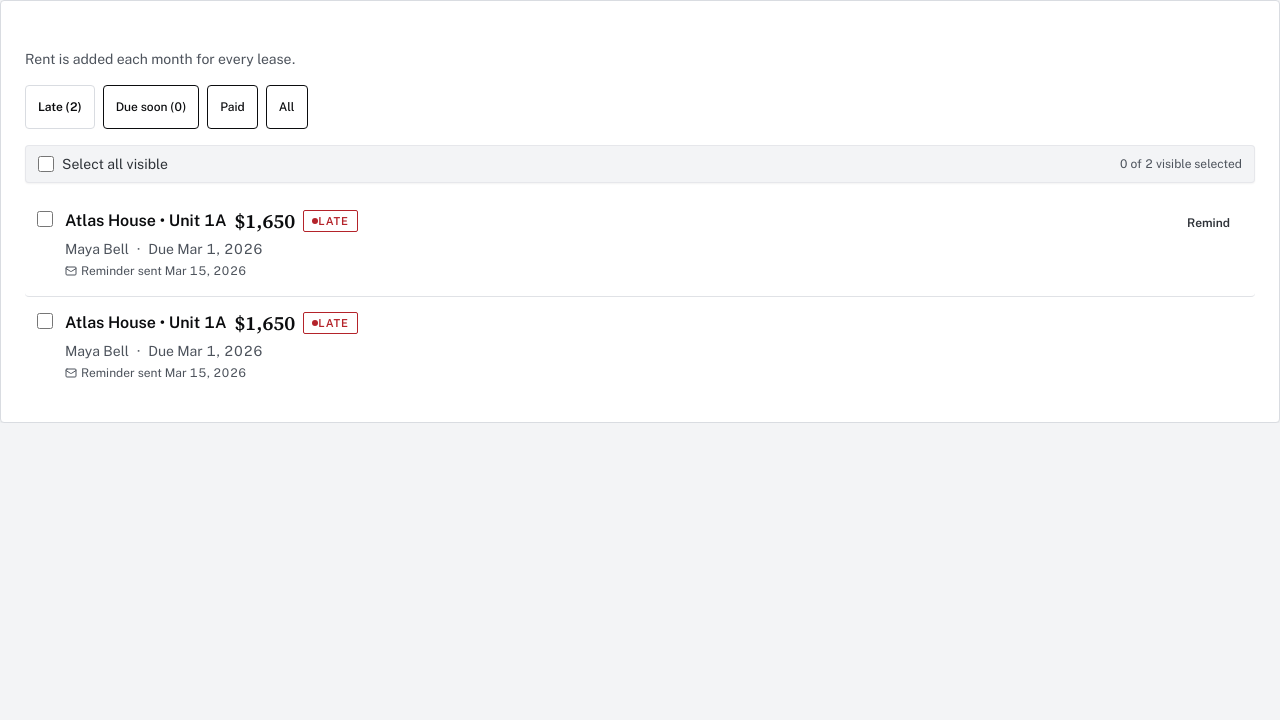
Test: ChargesSection › allows manager reminders only for approved homes and disables mixed batches
The width and height of the screenshot is (1280, 720).
Expected: the number of buttons "Remind" is 1, x1=1174 y1=207 x2=1243 y2=239
Click the 1st checkbox named "Select payment for Atlas House • Unit 1A" at (45, 219), box x1=37 y1=211 x2=53 y2=227
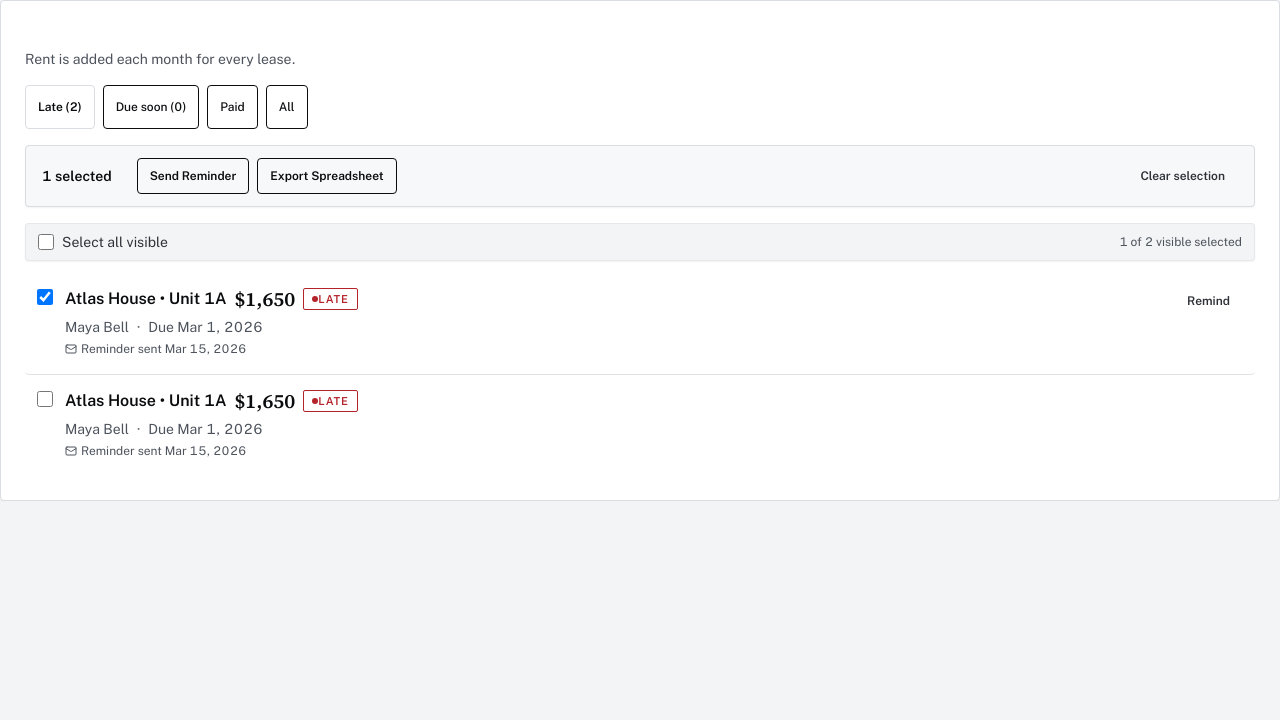
Click the 2nd checkbox named "Select payment for Atlas House • Unit 1A" at (45, 399), box x1=37 y1=391 x2=53 y2=407
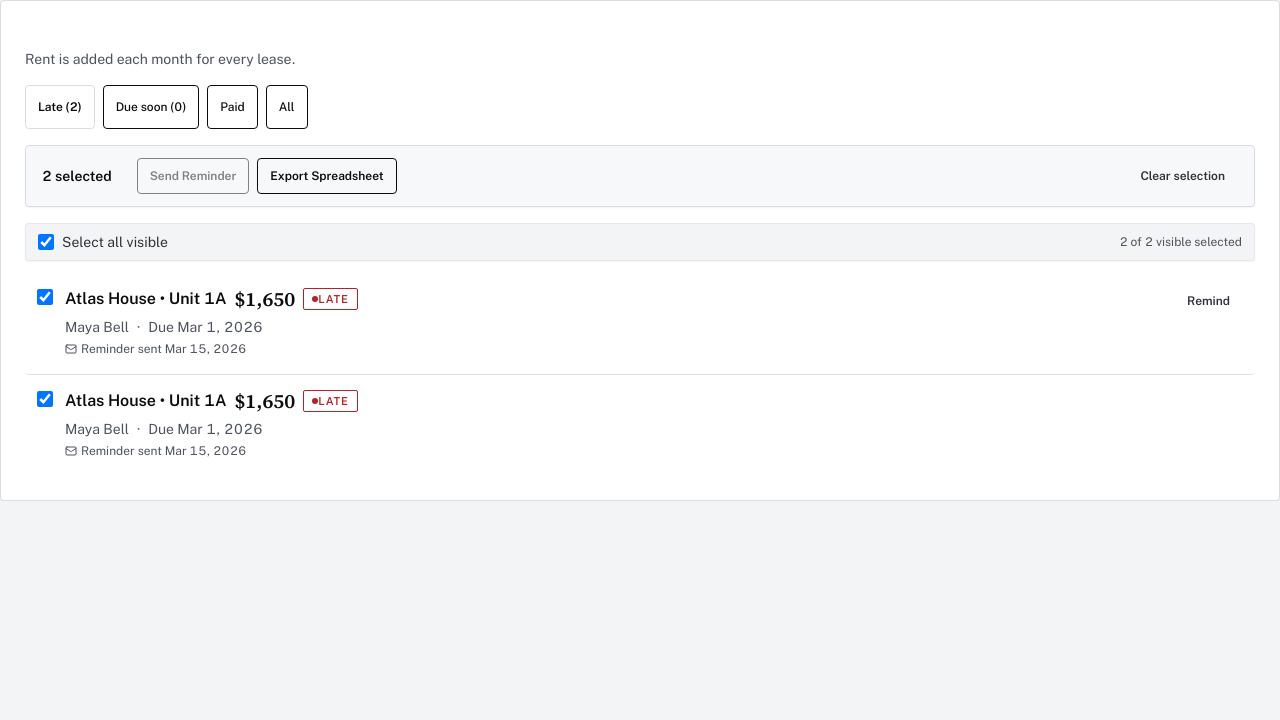
Expected: the button "Send Reminder" is disabled, x1=137 y1=158 x2=249 y2=194
Click the 2nd checkbox named "Select payment for Atlas House • Unit 1A" at (45, 399), box x1=37 y1=391 x2=53 y2=407
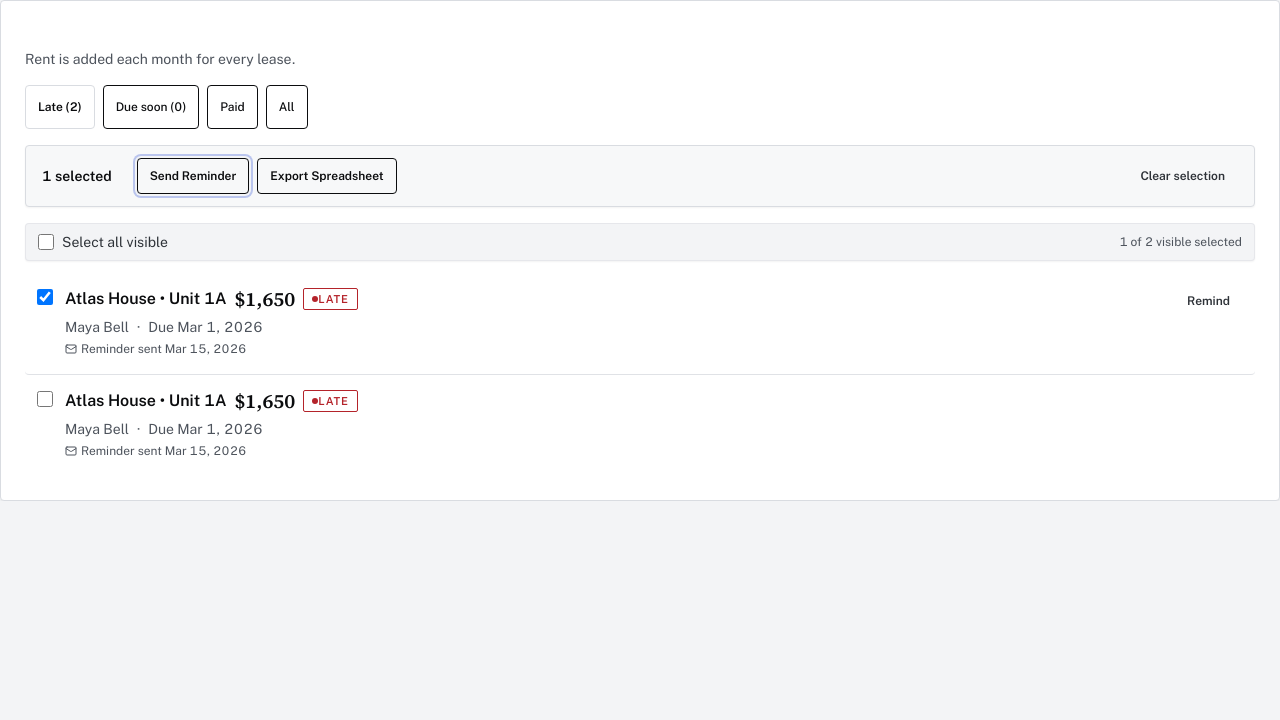
Expected: the button "Send Reminder" is enabled, x1=137 y1=158 x2=249 y2=194
